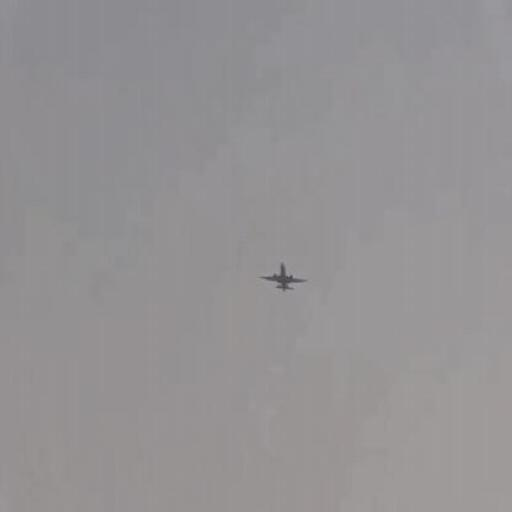aircraft: (260, 264, 310, 290)
